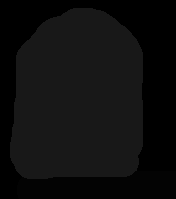fp: (3, 6, 164, 183)
